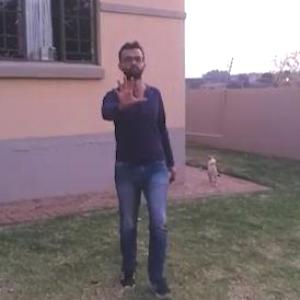follow_hand: (108, 69, 147, 115)
